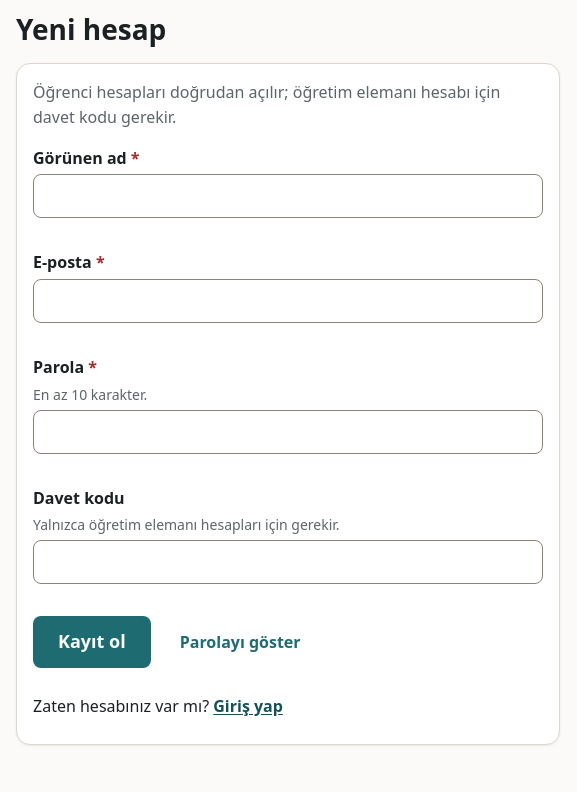
Scenario: sign-up › puts a field-level problem under the field the API named
Type "Ayşe Yılmaz" into the field labelled "Görünen ad *" at (288, 196), box [33,174,543,218]
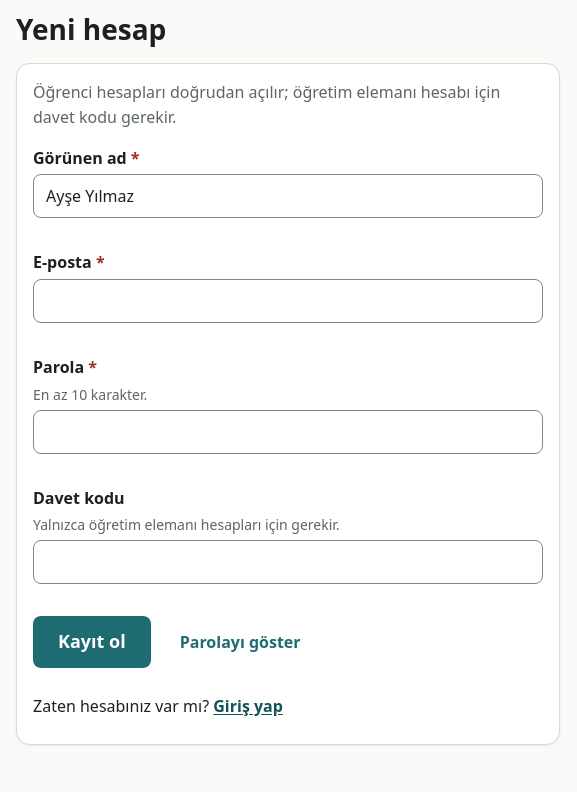
Type "a@ornek.edu.tr" into the field labelled "E-posta *" at (288, 301), box [33,279,543,323]
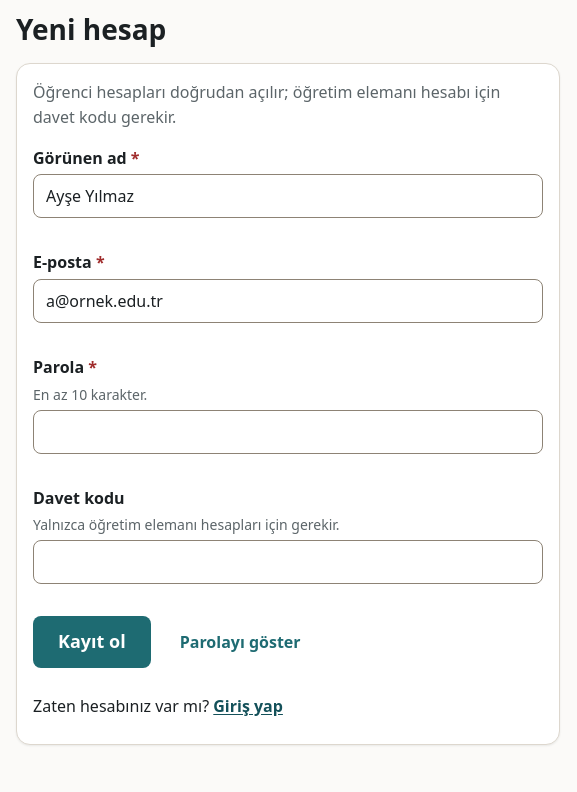
Type "cok-uzun-parola" into the password field labelled "Parola *" at (288, 432), box [33,410,543,454]
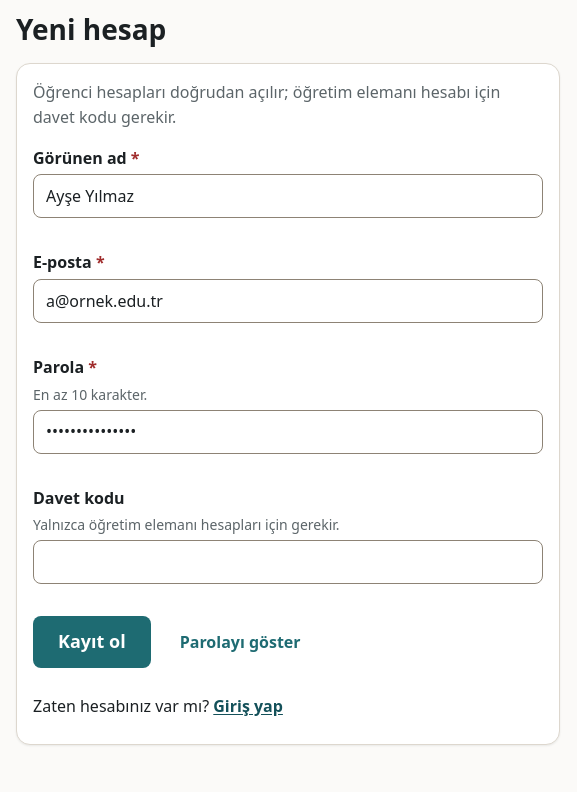
Click the button "Kayıt ol" at (92, 642), box [33,616,151,668]
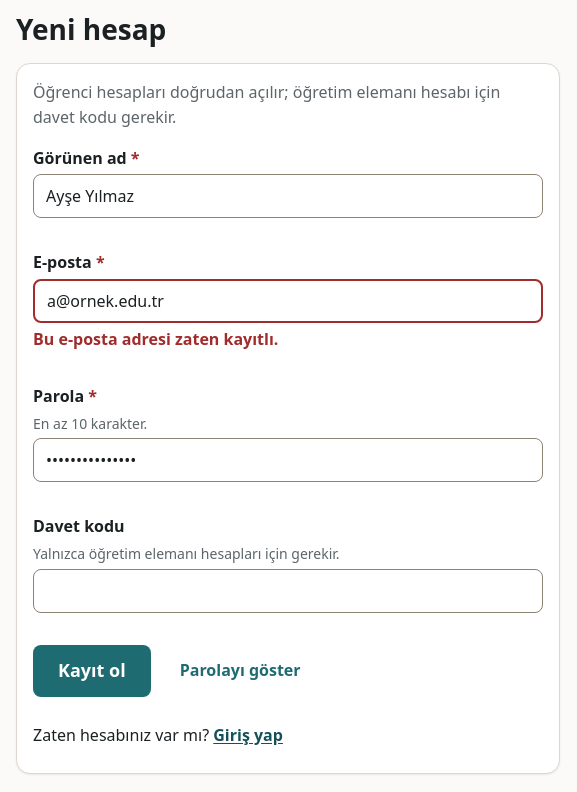
Check: the text "Bu e-posta adresi zaten kayıtlı." is shown, box [33,328,278,350]
